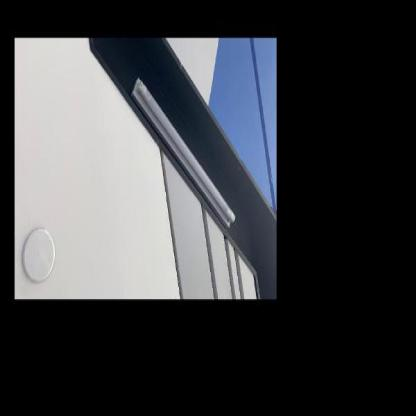light_off: (128, 64, 238, 241)
